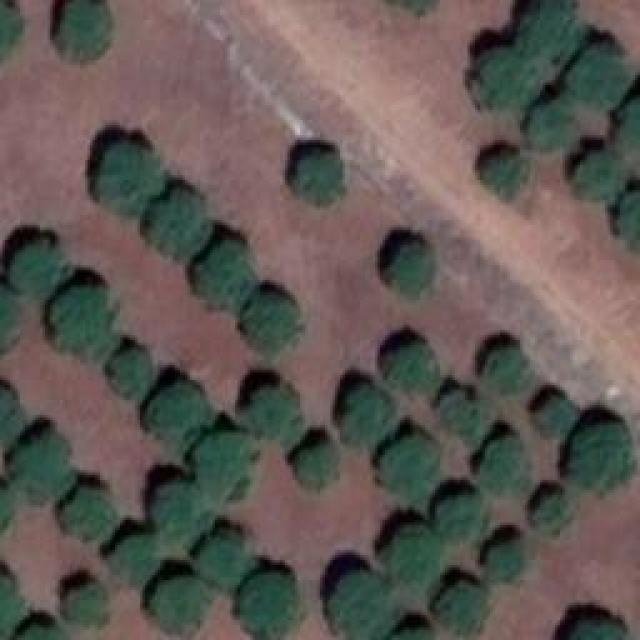Tree: (100, 142, 167, 213), (235, 575, 303, 640), (145, 388, 213, 449), (577, 428, 635, 496), (195, 430, 256, 492), (193, 240, 255, 301), (150, 573, 207, 639), (50, 290, 112, 350), (53, 2, 115, 61), (475, 50, 536, 109), (328, 575, 387, 636), (385, 528, 444, 589), (12, 440, 69, 502), (378, 440, 437, 498), (150, 480, 210, 537), (575, 48, 630, 109), (242, 380, 300, 437), (150, 200, 209, 255), (478, 438, 532, 493), (522, 3, 581, 53), (338, 388, 392, 442), (63, 490, 116, 545), (388, 240, 439, 296), (294, 153, 348, 205), (573, 150, 624, 205), (438, 583, 490, 636), (245, 303, 299, 354), (198, 533, 247, 589), (438, 490, 486, 546), (100, 540, 157, 587), (390, 343, 440, 395), (15, 243, 63, 297), (528, 103, 580, 151), (483, 348, 532, 395), (108, 348, 152, 398), (63, 588, 112, 632), (441, 393, 484, 441), (295, 445, 340, 490), (528, 490, 570, 536), (533, 398, 576, 442), (485, 540, 525, 586), (485, 150, 525, 195), (0, 2, 22, 72), (615, 190, 640, 250), (617, 100, 639, 167), (568, 617, 627, 640), (0, 385, 24, 441), (0, 575, 20, 640), (0, 280, 15, 353), (15, 622, 68, 640), (390, 623, 437, 640)
